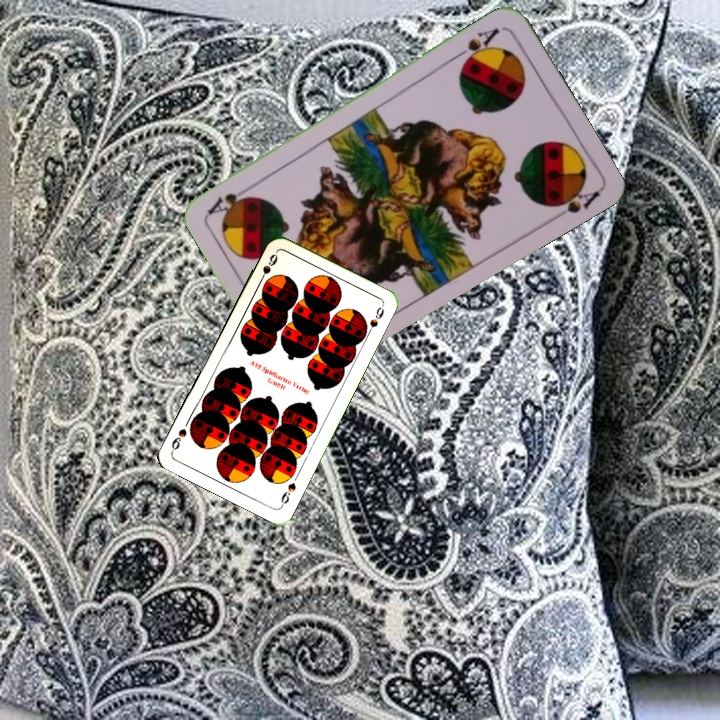S9: (254, 249, 280, 287), (277, 479, 299, 509)
SA: (451, 23, 502, 69)
